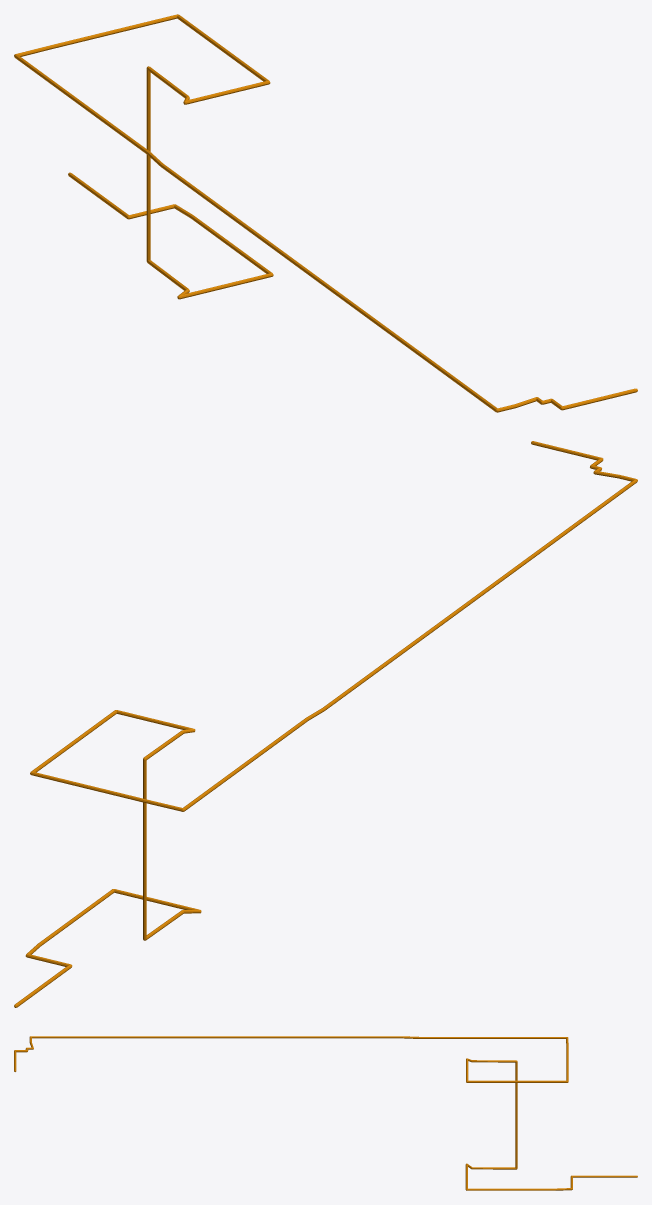
3 views of the same model, one above another, from view 1: azimuth 30°, elevation 25°; view 2: azimuth 150°, elevation 25°; view 3: azimuth 270°, elevation 25° (orthographic). The views are drawn at different scales.
Size of the model in its own units: 928 by 1020 by 5284.
